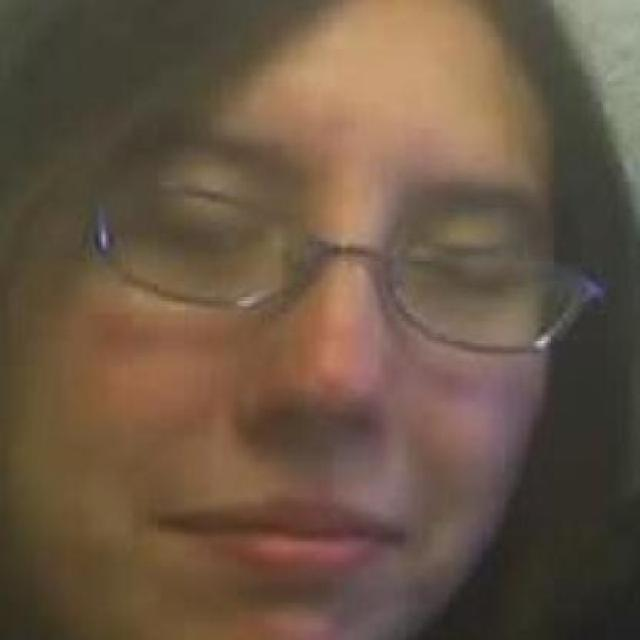drowsy: (148, 212, 254, 260), (424, 255, 519, 298)
